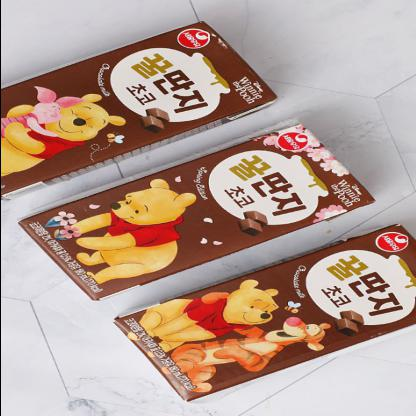tetra: (11, 106, 387, 314)
